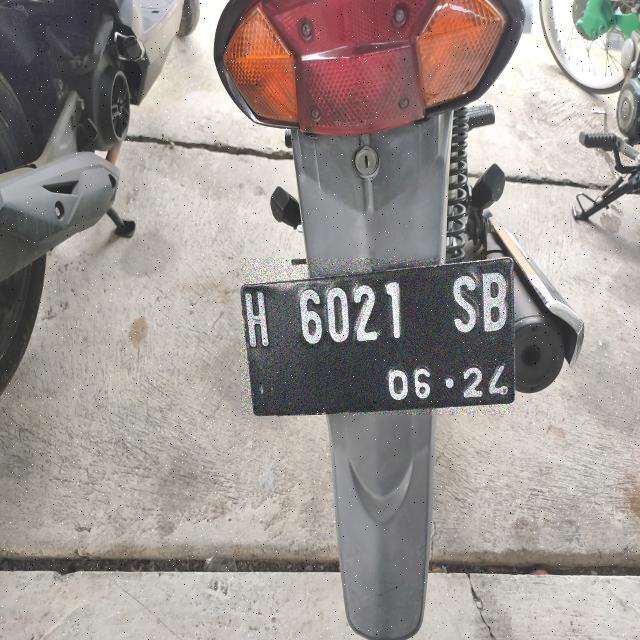plate: (241, 258, 515, 415)
